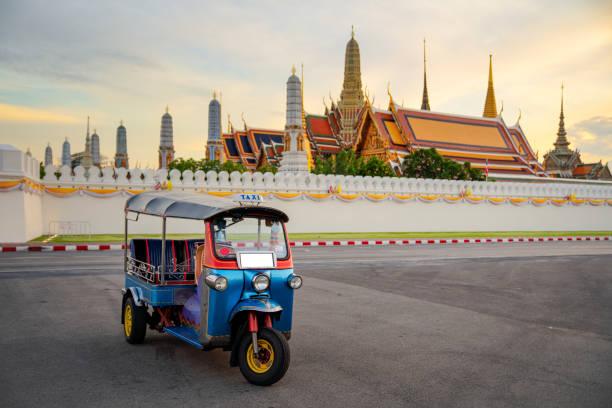threewheel: (121, 190, 304, 387)
